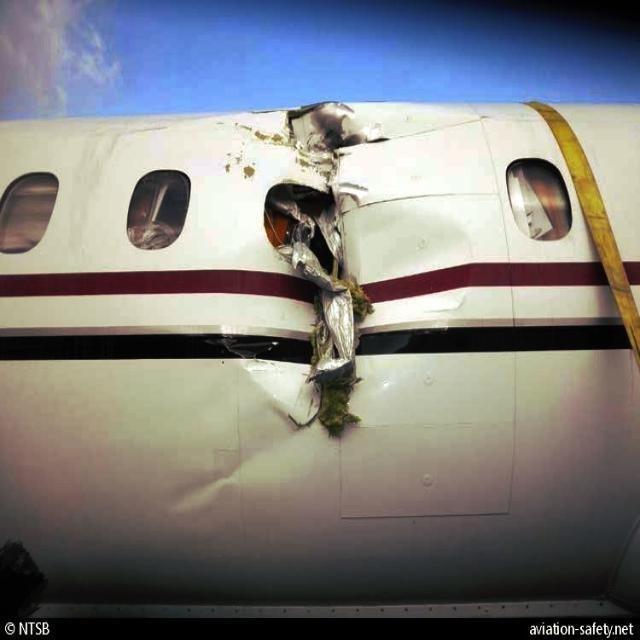crack: (254, 79, 395, 456)
dent: (358, 207, 466, 389), (167, 418, 319, 517)
